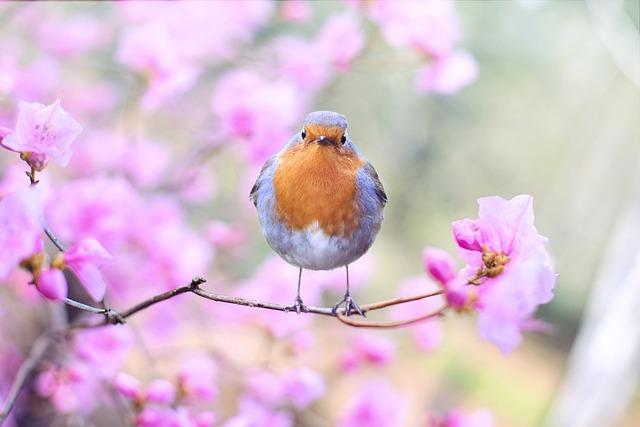bird: (249, 111, 387, 316)
